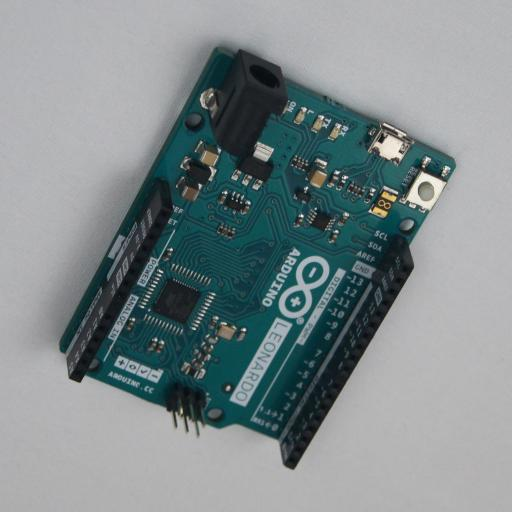Arduino Leonardo: (59, 44, 456, 470)
